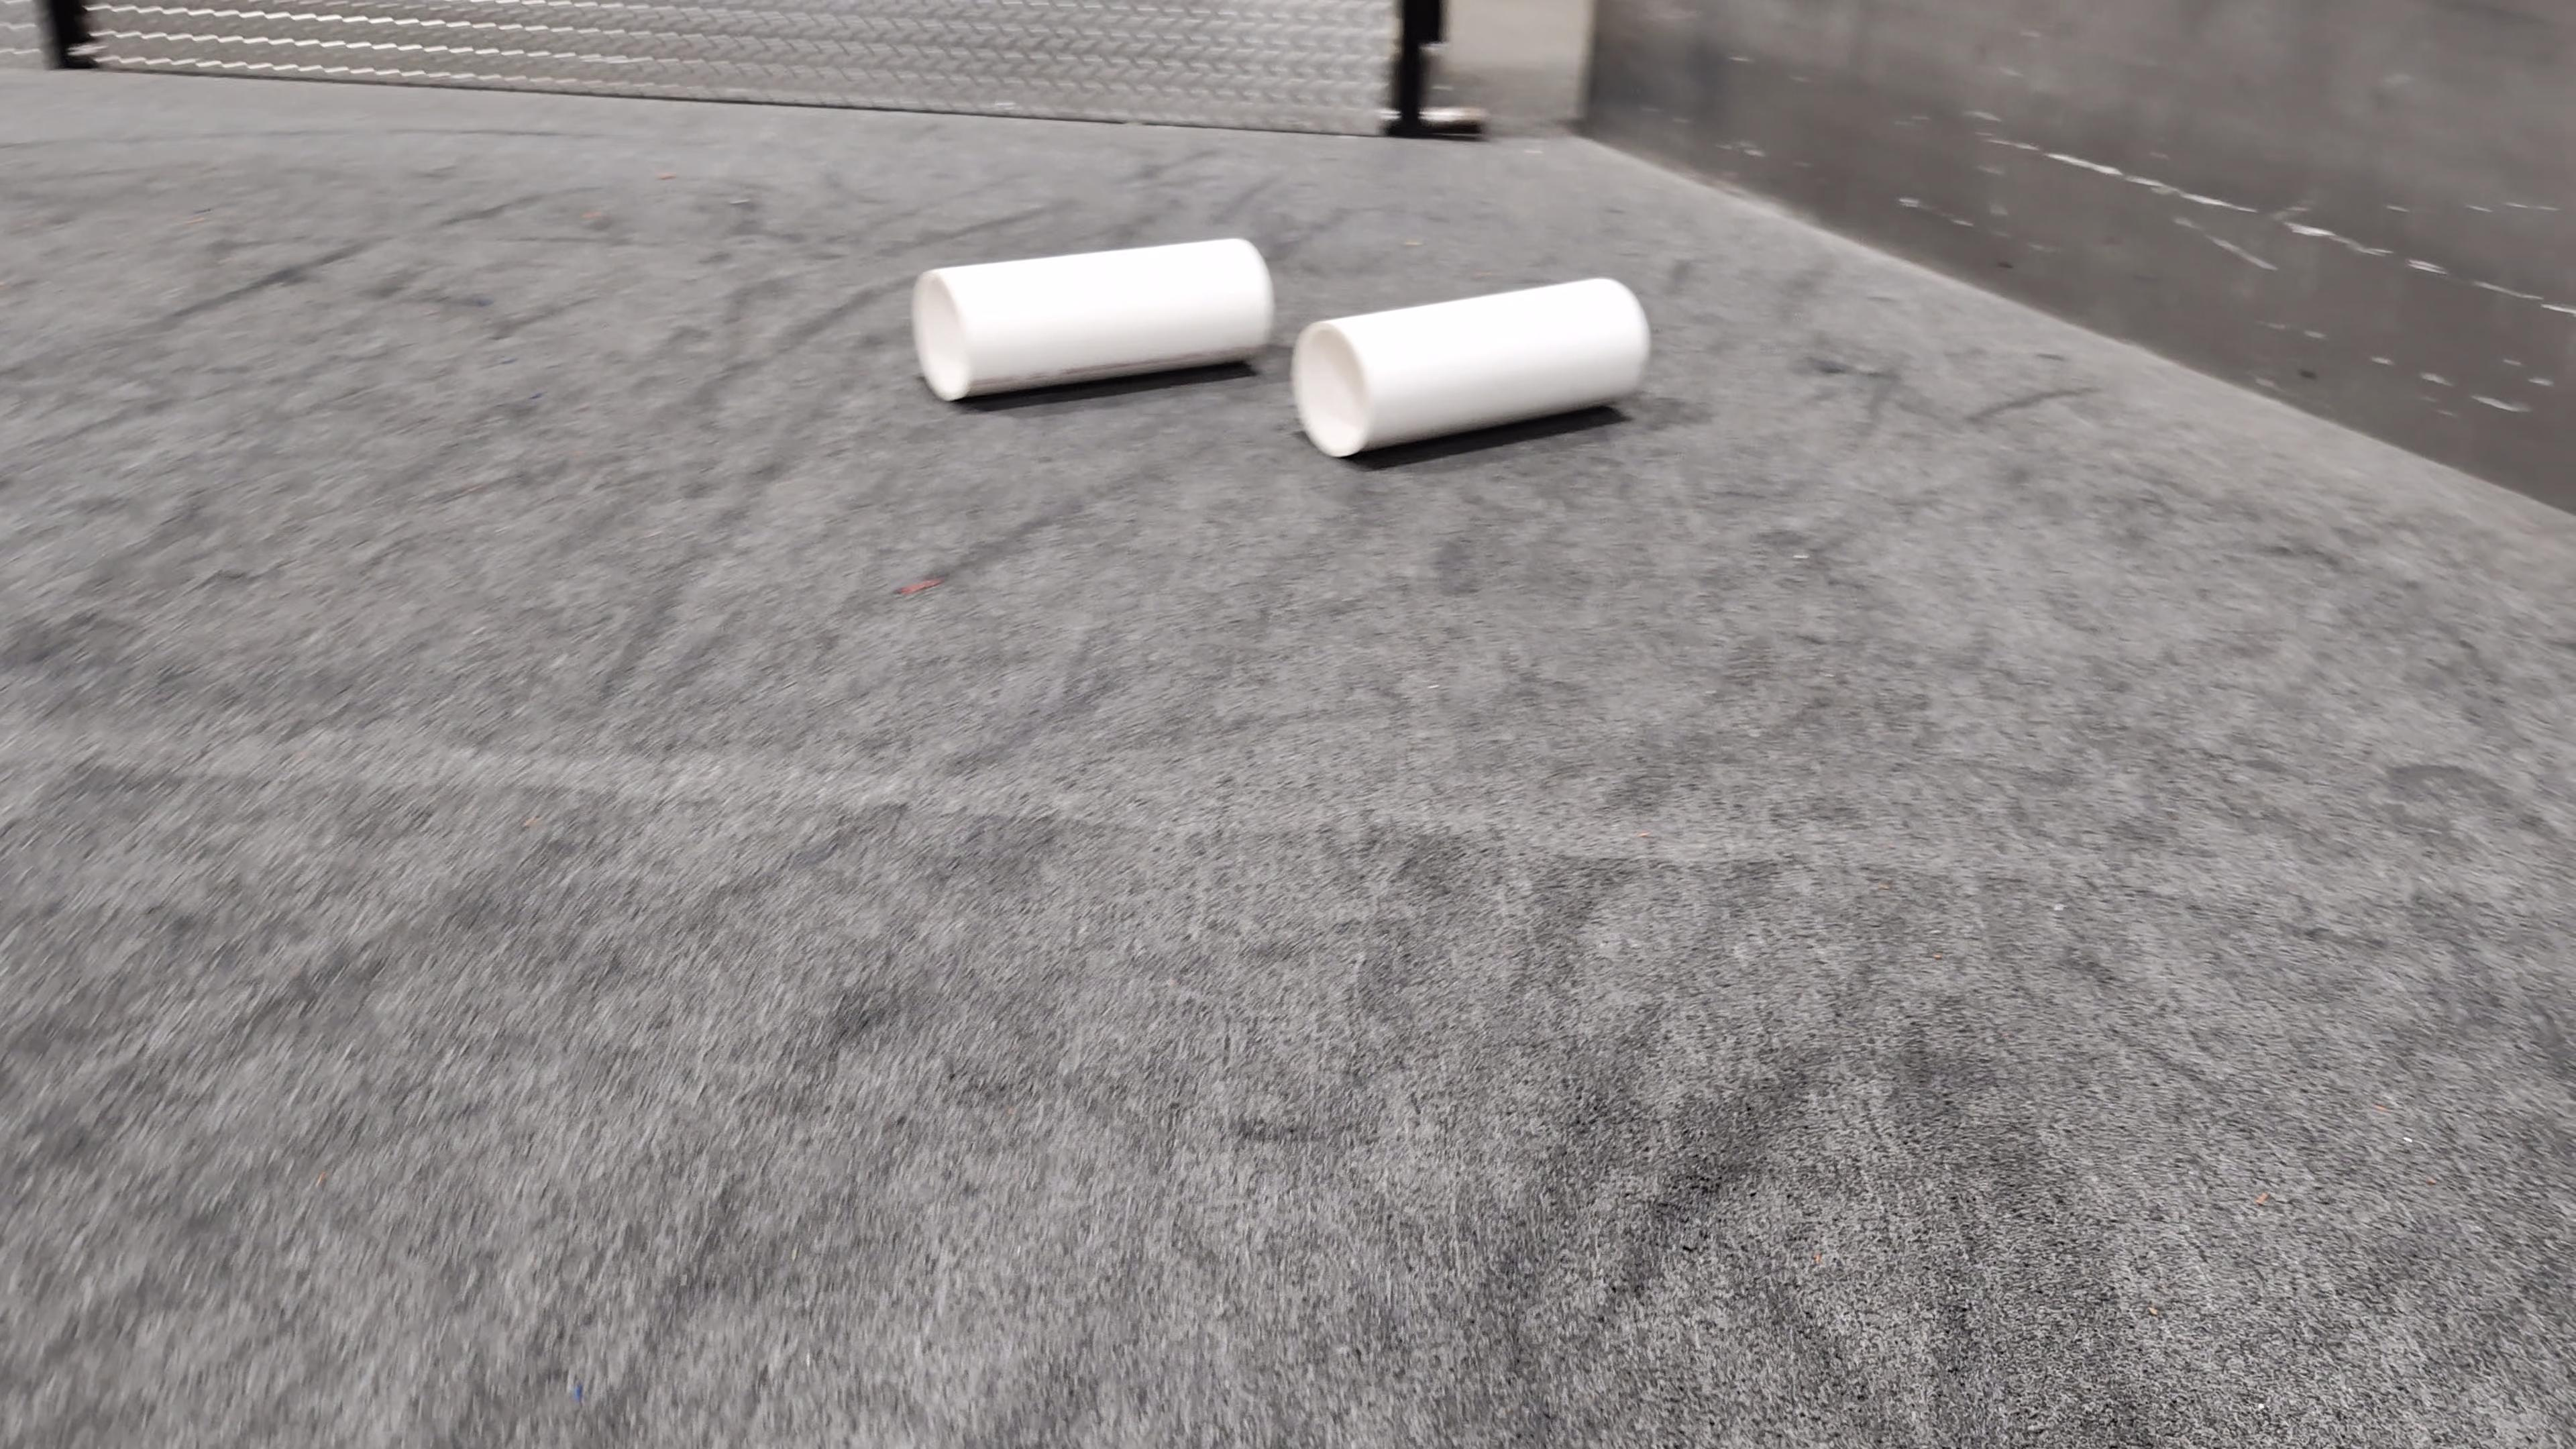coral: (1291, 278, 1650, 458), (915, 238, 1273, 402)
